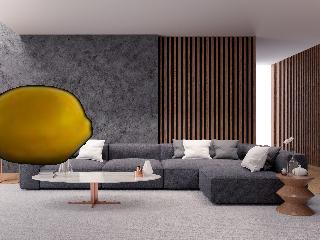lemon: (0, 87, 90, 164)
